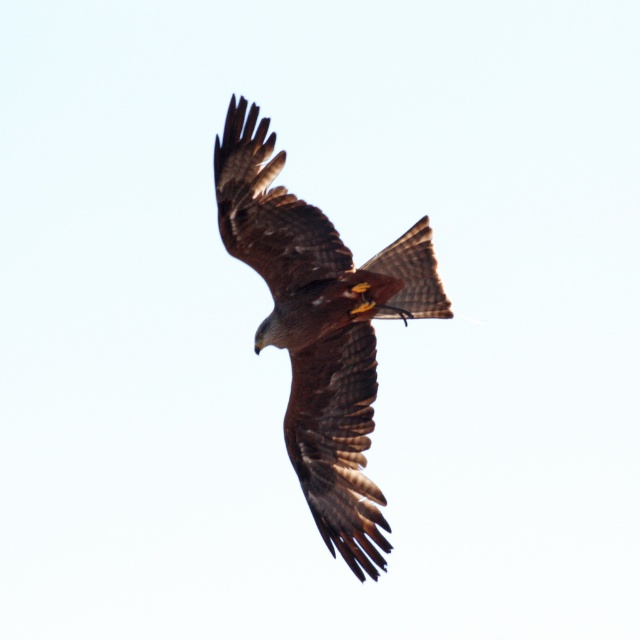Eagle: (210, 90, 453, 579)
